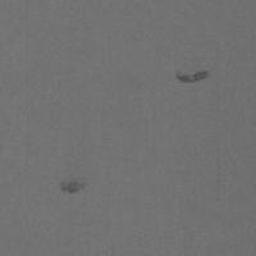Inclusion: (58, 179, 90, 195), (175, 69, 209, 83)
